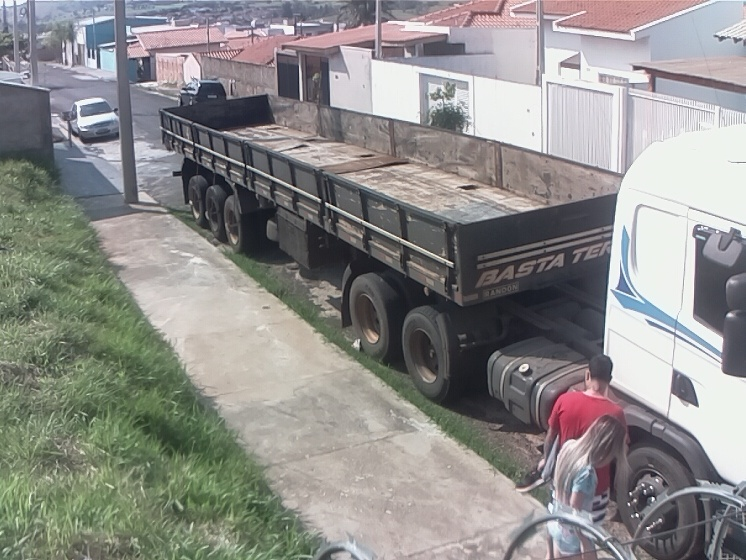person: (539, 352, 632, 560), (545, 415, 621, 560)
